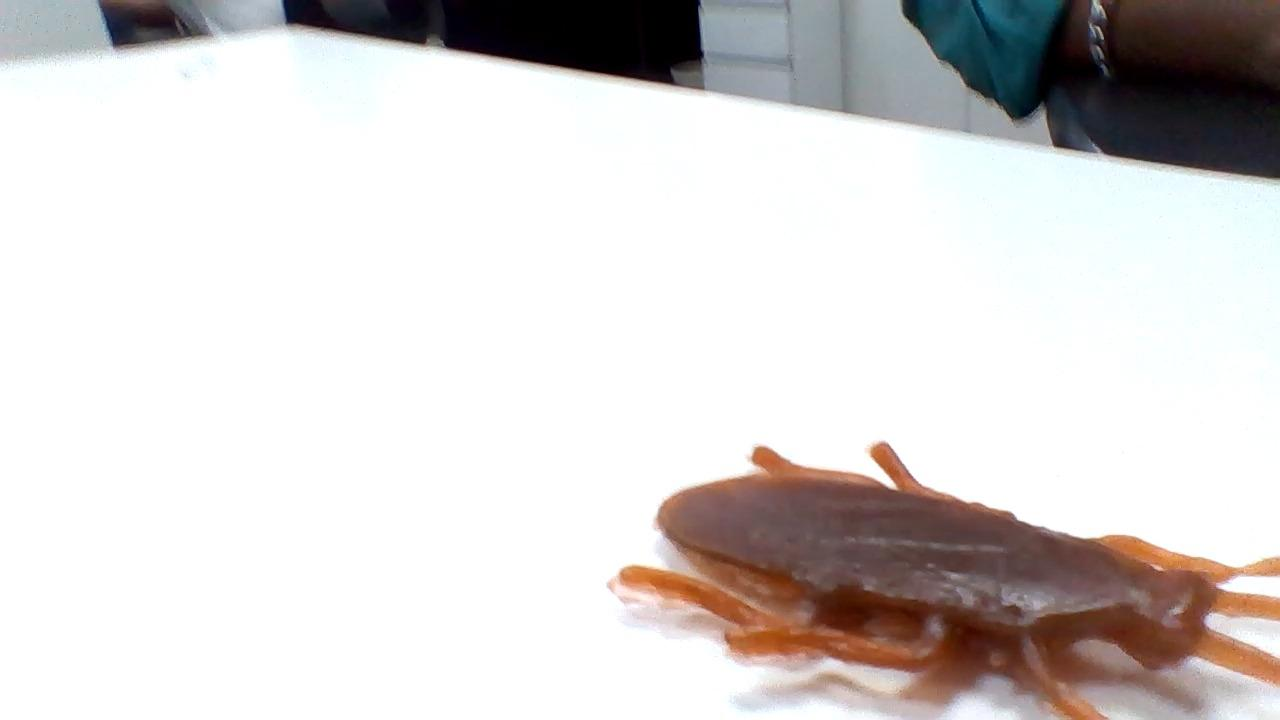cockroach: (626, 423, 1280, 720)
